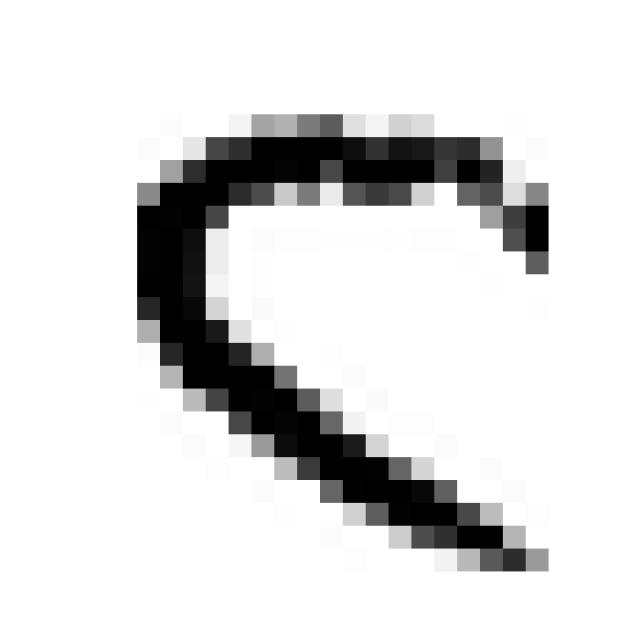2 -two-: (112, 100, 571, 599)
